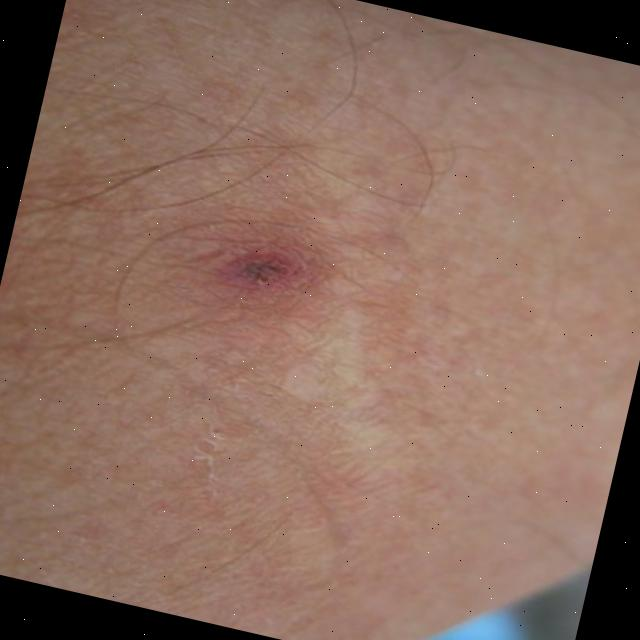kene: (202, 228, 322, 308)
